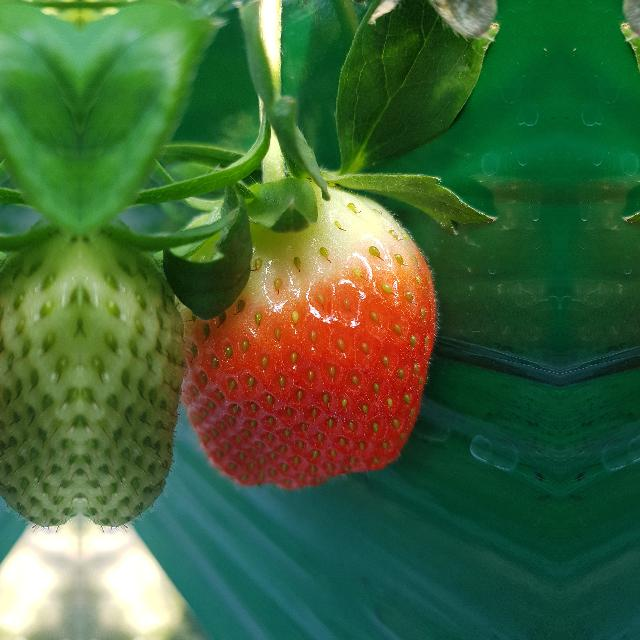Health_75: (174, 181, 438, 491)
